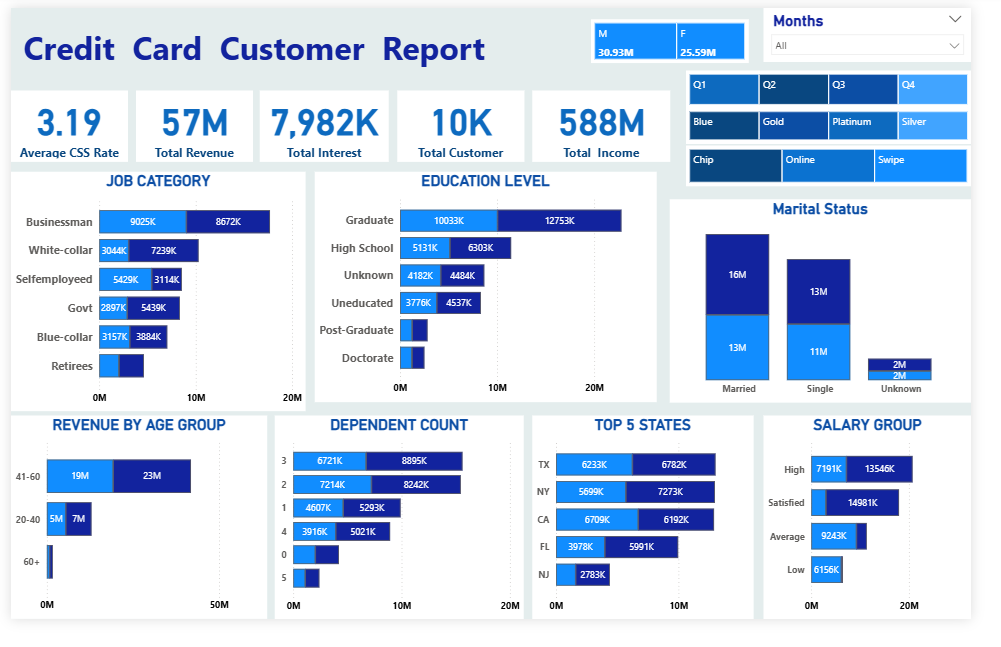

What the dashboard file says about the page in this screenshot:
{"tool":"powerbi","page":{"name":"Page 1","canvas":[1280,815],"ordinal":0},"visuals":[{"type":"textbox","box":[0,0,683.9,101],"z":0},{"type":"card","fields":{"Values":["Avg(customer.Cust_Satisfaction_Score)"]},"box":[0,109.2,155.6,95.6],"z":1000},{"type":"slicer","fields":{"Values":["credit_card.Month Name"]},"box":[1003.4,0,277.1,72.4],"z":2000},{"type":"card","fields":{"Values":["Sum(credit_card.Revenue)"]},"box":[166.5,109.2,155.6,95.6],"z":3000},{"type":"card","fields":{"Values":["Sum(credit_card.Interest_Earned)"]},"box":[331.7,109.2,172,95.6],"z":4000},{"type":"card","fields":{"Values":["Count(customer.Client_Num)"]},"box":[514.7,109.2,169.3,95.6],"z":5000},{"type":"treemap","fields":{"Group":["customer.Gender"],"Values":["Sum(credit_card.Revenue)"]},"box":[772.9,14.3,210,58.6],"z":6000},{"type":"barChart","title":"SALARY GROUP","fields":{"Category":["customer.INCOME GROUP "],"Series":["customer.Gender"],"Y":["Sum(credit_card.Revenue)"]},"box":[1003.4,543.3,277.1,271.7],"z":7000},{"type":"columnChart","title":"Marital Status","fields":{"Category":["customer.Marital_Status"],"Series":["customer.Gender"],"Y":["Sum(credit_card.Revenue)"]},"box":[878.6,254.3,401.4,271.4],"z":8000},{"type":"barChart","title":"TOP 5 STATES","fields":{"Category":["customer.state_cd"],"Series":["customer.Gender"],"Y":["Sum(credit_card.Revenue)"]},"box":[694.9,543.3,294.9,271.7],"z":9000},{"type":"barChart","title":"EDUCATION LEVEL","fields":{"Category":["customer.Education_Level"],"Series":["customer.Gender"],"Y":["Sum(credit_card.Revenue)"]},"box":[404.3,218.6,455.7,307.1],"z":10000},{"type":"barChart","title":"JOB CATEGORY","fields":{"Category":["customer.Customer_Job"],"Series":["customer.Gender"],"Y":["Sum(credit_card.Revenue)"]},"box":[0,218.4,393.2,319.4],"z":11000},{"type":"barChart","title":"REVENUE BY AGE GROUP","fields":{"Category":["customer.AGE GROUP"],"Series":["customer.Gender"],"Y":["Sum(credit_card.Revenue)"]},"box":[0,542.9,341.4,271.4],"z":12000},{"type":"treemap","fields":{"Group":["credit_card.Card_Category"],"Values":["Count(credit_card.Card_Category)"]},"box":[899.6,133.8,380.9,47.8],"z":13000},{"type":"treemap","fields":{"Group":["credit_card.Use Chip"],"Values":["Count(credit_card.Use Chip)"]},"box":[900,182.9,380,54.3],"z":14000},{"type":"barChart","title":"DEPENDENT COUNT","fields":{"Series":["customer.Gender"],"Y":["Sum(credit_card.Revenue)"],"Category":["customer.Dependent_Count"]},"box":[352.2,543.3,331.7,271.7],"z":15000},{"type":"treemap","fields":{"Group":["credit_card.Qtr"],"Values":["Count(credit_card.Qtr)"]},"box":[899.6,83.3,380.9,50.5],"z":16000},{"type":"card","fields":{"Values":["Sum(customer.Income)"]},"box":[694.9,109.2,184.3,95.6],"z":17000}]}

Visuals, with their boxes in screenshot pixels (x1, y1, x2, y2), scaled from the page's 1280x815 canvas onto the 1001x647 screenshot:
textbox: bbox=(0, 0, 535, 80)
card - Avg(customer.Cust_Satisfaction_Score): bbox=(0, 87, 122, 163)
slicer - credit_card.Month Name: bbox=(785, 0, 1000, 57)
card - Sum(credit_card.Revenue): bbox=(130, 87, 252, 163)
card - Sum(credit_card.Interest_Earned): bbox=(259, 87, 394, 163)
card - Count(customer.Client_Num): bbox=(403, 87, 535, 163)
treemap - customer.Gender x Sum(credit_card.Revenue): bbox=(604, 11, 769, 58)
"SALARY GROUP" barChart: bbox=(785, 431, 1000, 646)
"Marital Status" columnChart: bbox=(687, 202, 1000, 417)
"TOP 5 STATES" barChart: bbox=(543, 431, 774, 646)
"EDUCATION LEVEL" barChart: bbox=(316, 174, 673, 417)
"JOB CATEGORY" barChart: bbox=(0, 173, 307, 427)
"REVENUE BY AGE GROUP" barChart: bbox=(0, 431, 267, 646)
treemap - credit_card.Card_Category x Count(credit_card.Card_Category): bbox=(704, 106, 1000, 144)
treemap - credit_card.Use Chip x Count(credit_card.Use Chip): bbox=(704, 145, 1000, 188)
"DEPENDENT COUNT" barChart: bbox=(275, 431, 535, 646)
treemap - credit_card.Qtr x Count(credit_card.Qtr): bbox=(704, 66, 1000, 106)
card - Sum(customer.Income): bbox=(543, 87, 688, 163)
